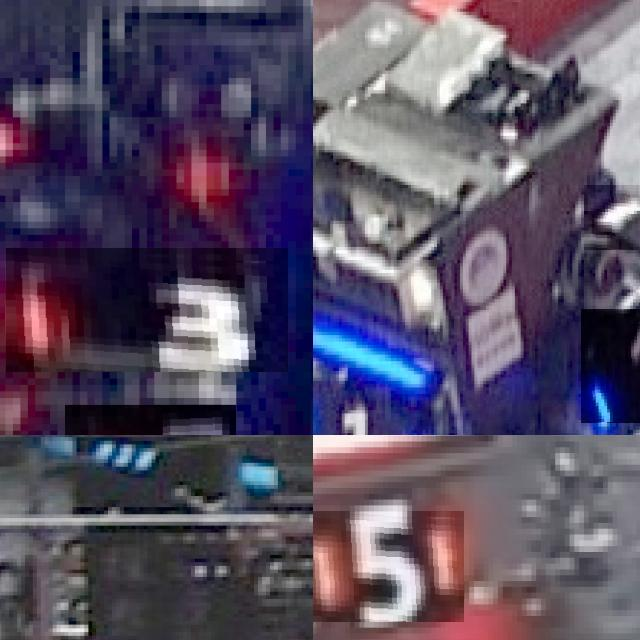B1: (581, 308, 640, 423), (313, 397, 422, 435), (584, 184, 640, 250)
R3: (6, 248, 288, 372), (65, 404, 236, 435)
R5: (313, 511, 464, 621)
